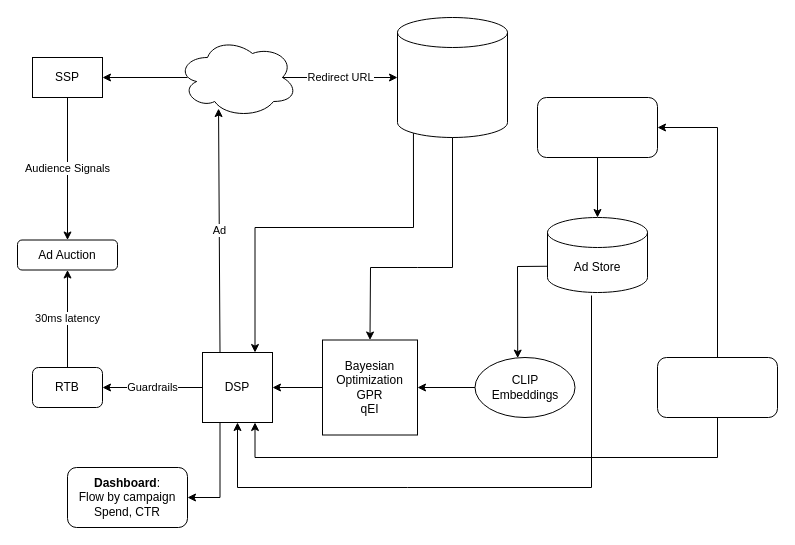
Some shapes in this 795 by 545 pixel diagram are drawn without their labels. The shapes that lost their labels are listed below. From the top down, each one's centre as x and y in pixels, then its label:
At point 237,77: "Website".
At point 452,77: "Metrics for CTR, CVR".
At point 597,127: "Ad Design Studio".
At point 717,387: "Offline Segmentation Model".
